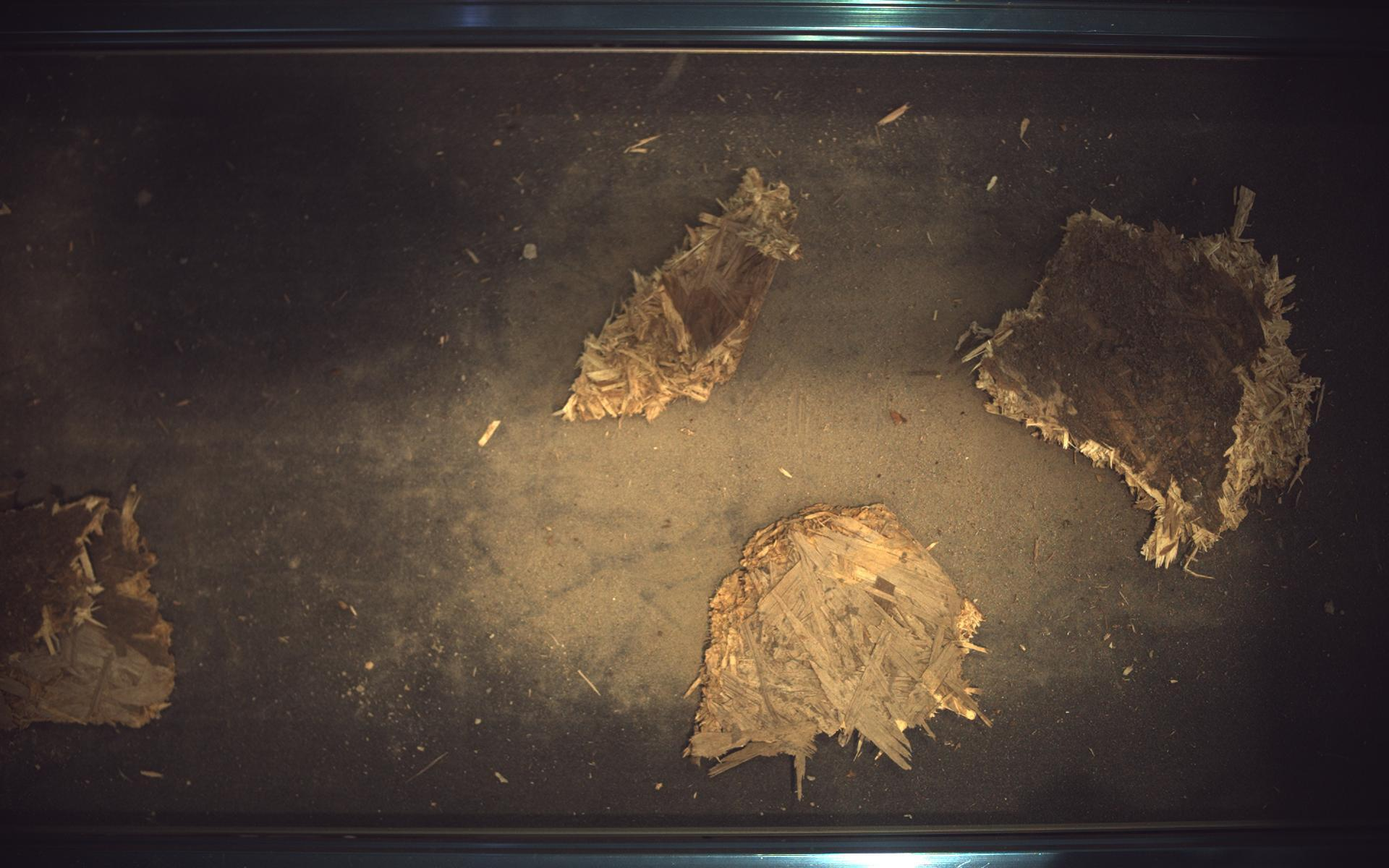wood: (959, 186, 1324, 568), (686, 505, 990, 801), (561, 167, 802, 421)
